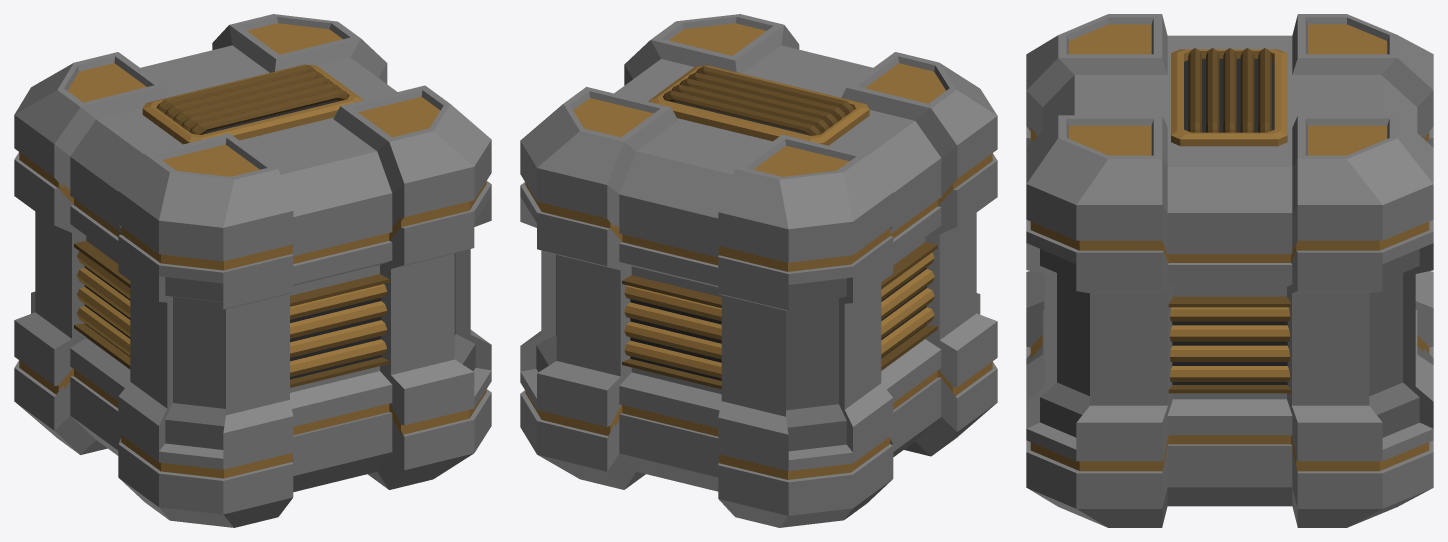
The model's file is crate.glb.
3 renders of one model, left to right at view 1: azimuth 30°, elevation 25°; view 2: azimuth 150°, elevation 25°; view 3: azimuth 270°, elevation 25°, orthographic. The views are drawn at different scales.
Visible parts, largest first — view 1: crate; view 2: crate; view 3: crate.
Boxes of the visible parts, x1=… form: crate: x1=14, y1=14, x2=491, y2=527; crate: x1=520, y1=14, x2=997, y2=527; crate: x1=1026, y1=14, x2=1433, y2=527.
Bounding box in the file's own units: 0.9895 × 1 × 0.9895.
